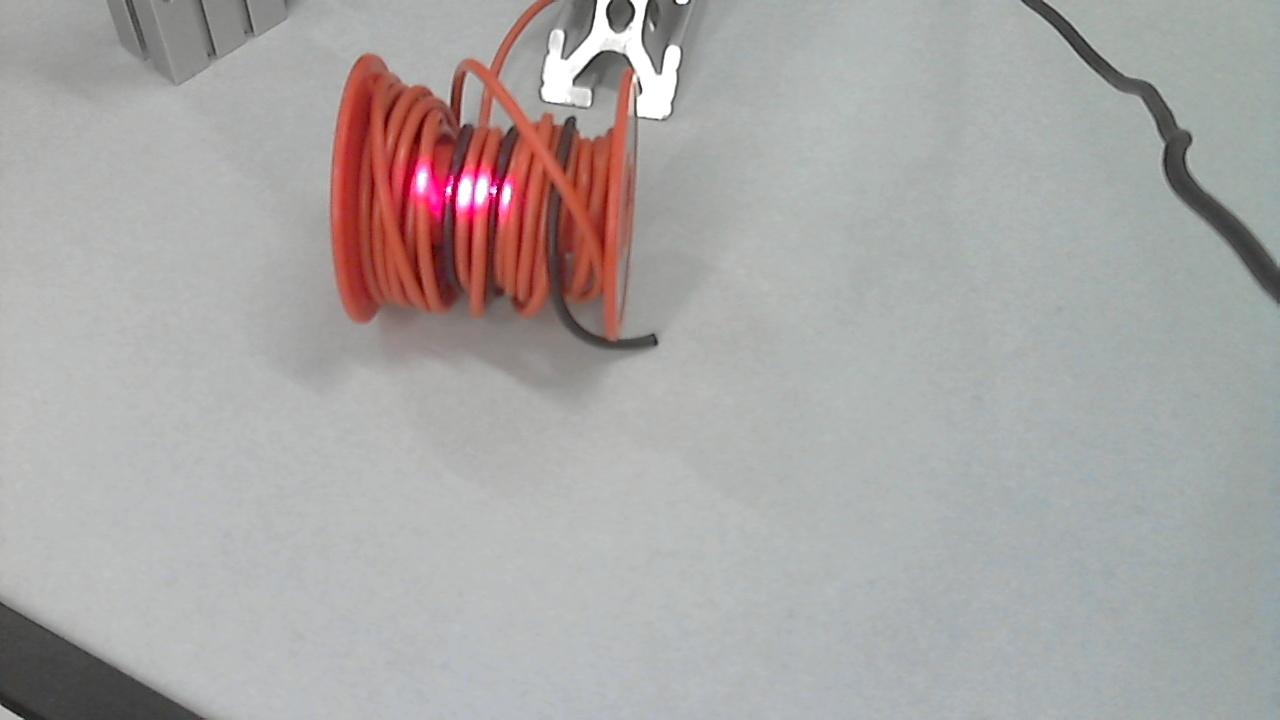Object wire spool - Material rubber - Color oranges - Pdfname ZryFz3DBSiO8: (409, 150, 534, 223)
